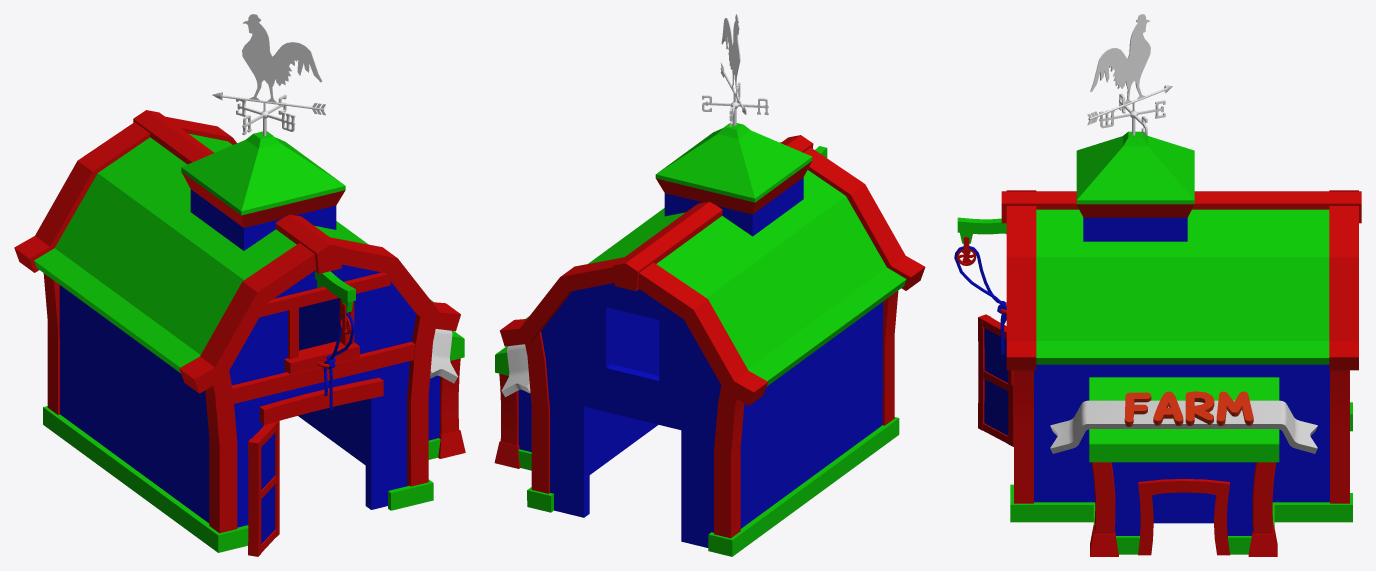
File: Barn.fbx
The picture shows the model from 3 angles, left to right: view 1: azimuth 30°, elevation 25°; view 2: azimuth 150°, elevation 25°; view 3: azimuth 270°, elevation 25°; orthographic projection. The views are drawn at different scales.
Visible parts, largest first — view 1: Farm_h, Roof_l, Cube.010, SFarm_l, Door_l, Cube.024, Rope_l, Cube.006; view 2: Farm_h, Roof_l, Cube.010, SFarm_l, Cube.024, Cube.006; view 3: Roof_l, SFarm_l, Farm_h, Cube.010, Door_l, Cube.024, Rope_l, Cube.006.
Part boxes in pixels (bbox=[...]): Farm_h: bbox=[43, 264, 435, 552]; Roof_l: bbox=[14, 110, 460, 393]; Cube.010: bbox=[181, 131, 345, 250]; SFarm_l: bbox=[428, 329, 465, 459]; Door_l: bbox=[248, 421, 279, 556]; Cube.024: bbox=[212, 14, 325, 115]; Rope_l: bbox=[315, 271, 355, 409]; Cube.006: bbox=[236, 94, 295, 136]; Farm_h: bbox=[525, 283, 899, 556]; Roof_l: bbox=[499, 135, 925, 405]; Cube.010: bbox=[655, 123, 812, 236]; SFarm_l: bbox=[494, 344, 531, 470]; Cube.024: bbox=[720, 14, 746, 114]; Cube.006: bbox=[702, 82, 768, 126]; Roof_l: bbox=[1001, 190, 1361, 370]; SFarm_l: bbox=[1050, 377, 1317, 556]; Farm_h: bbox=[1010, 364, 1352, 522]; Cube.010: bbox=[1076, 131, 1194, 241]; Door_l: bbox=[978, 314, 1013, 446]; Cube.024: bbox=[1087, 14, 1172, 125]; Rope_l: bbox=[954, 217, 1006, 354]; Cube.006: bbox=[1099, 93, 1165, 135].
Bounding box in the file's own units: 422 × 484 × 596.
